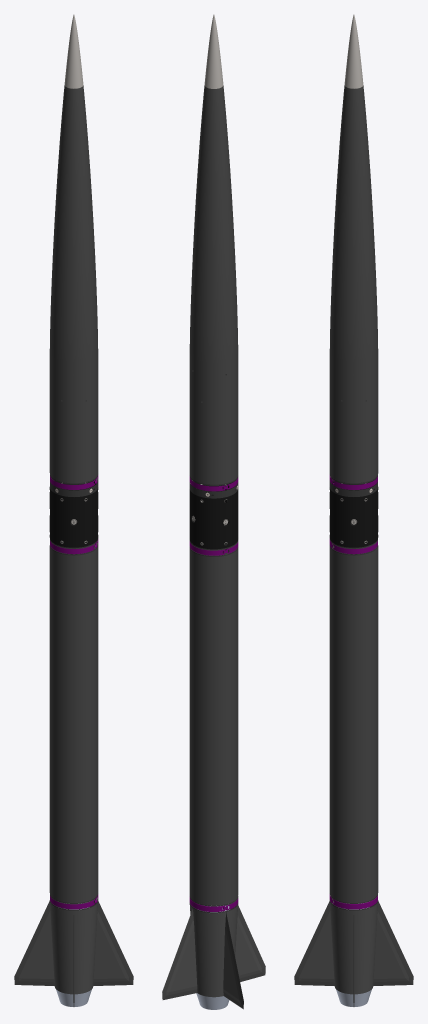
The picture shows the model from 3 angles, left to right: view 1: azimuth 90°, elevation 25°; view 2: azimuth 210°, elevation 25°; view 3: azimuth 270°, elevation 25°; orthographic projection.
Parts seen in each view (by area): view 1: dark grey medium gloss plastic, color, color-2, polished steel, blue anodized aluminum, dark grey medium gloss plastic-2, satin finish aluminum; view 2: dark grey medium gloss plastic, color, color-2, polished steel, blue anodized aluminum, dark grey medium gloss plastic-2, satin finish aluminum; view 3: dark grey medium gloss plastic, color, color-2, polished steel, dark grey medium gloss plastic-2, blue anodized aluminum, satin finish aluminum.
Boxes of the visible parts, x1,y1,x2,y2 form: dark grey medium gloss plastic: [14, 85, 133, 1006]; color: [19, 900, 128, 1002]; color-2: [49, 481, 98, 547]; polished steel: [60, 14, 97, 899]; blue anodized aluminum: [50, 473, 98, 910]; dark grey medium gloss plastic-2: [50, 475, 98, 903]; satin finish aluminum: [56, 903, 91, 1006]; dark grey medium gloss plastic: [162, 85, 265, 1009]; color: [166, 904, 261, 1003]; color-2: [189, 482, 238, 549]; polished steel: [192, 14, 228, 545]; blue anodized aluminum: [189, 475, 238, 913]; dark grey medium gloss plastic-2: [189, 476, 238, 911]; satin finish aluminum: [196, 905, 229, 1009]; dark grey medium gloss plastic: [294, 85, 413, 1006]; color: [299, 898, 408, 1002]; color-2: [329, 481, 378, 547]; polished steel: [340, 14, 367, 543]; dark grey medium gloss plastic-2: [329, 475, 377, 909]; blue anodized aluminum: [329, 474, 377, 910]; satin finish aluminum: [336, 903, 371, 1006].
Bounding box in the file's own units: 0.3208 × 2.93 × 0.3208.
